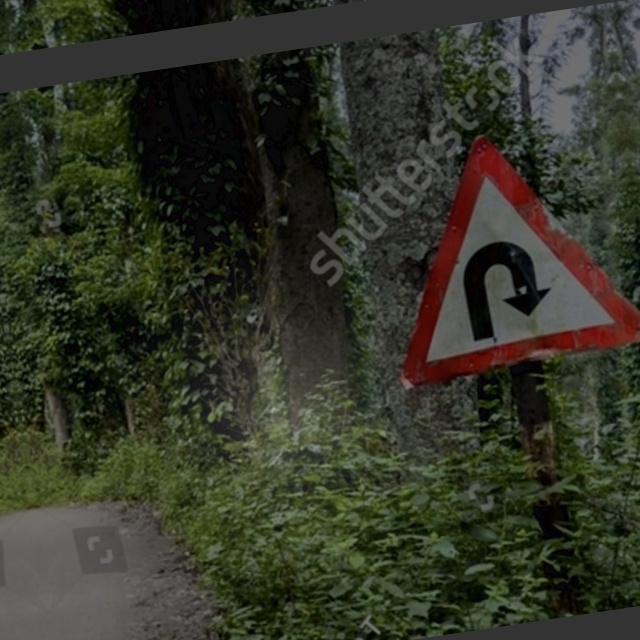Right_Hair_Pin_Bend: (379, 113, 639, 376)
